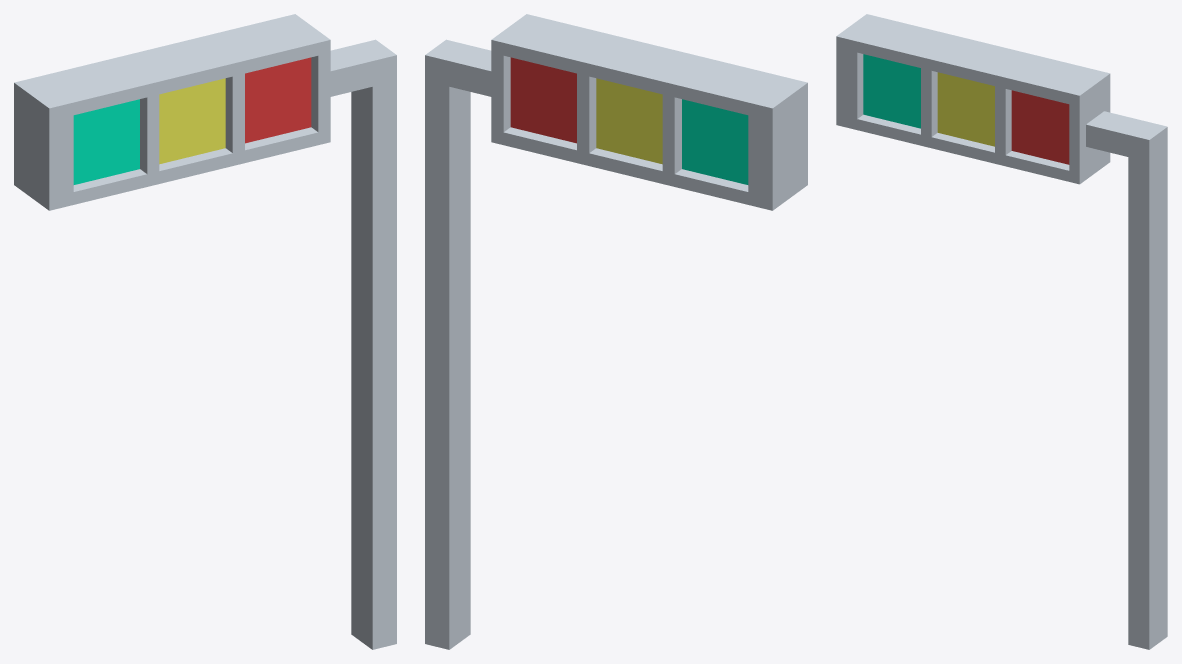
The model's file is singouki1.obj.
3 views of the same model, side by side, from view 1: azimuth 30°, elevation 25°; view 2: azimuth 150°, elevation 25°; view 3: azimuth 330°, elevation 25° (orthographic). The views are drawn at different scales.
Bounding box in the file's own units: 2.9 × 4.9 × 0.5.
Materials: 1 (1 with a texture image).
